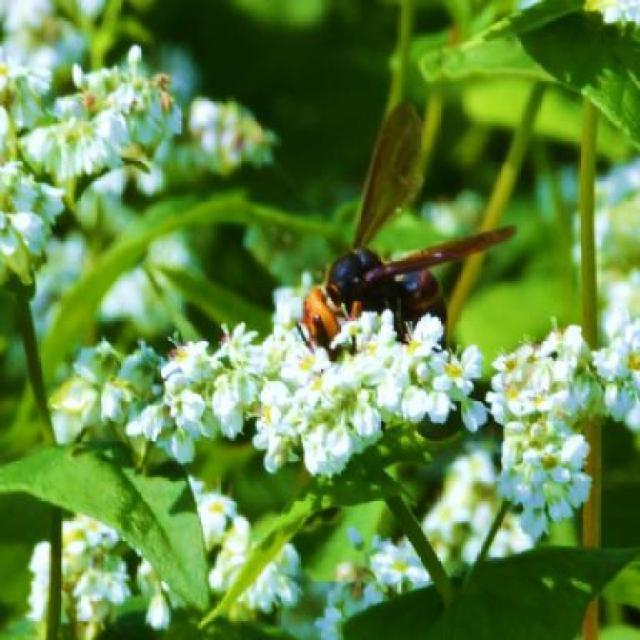Wasp: (283, 93, 528, 354)
